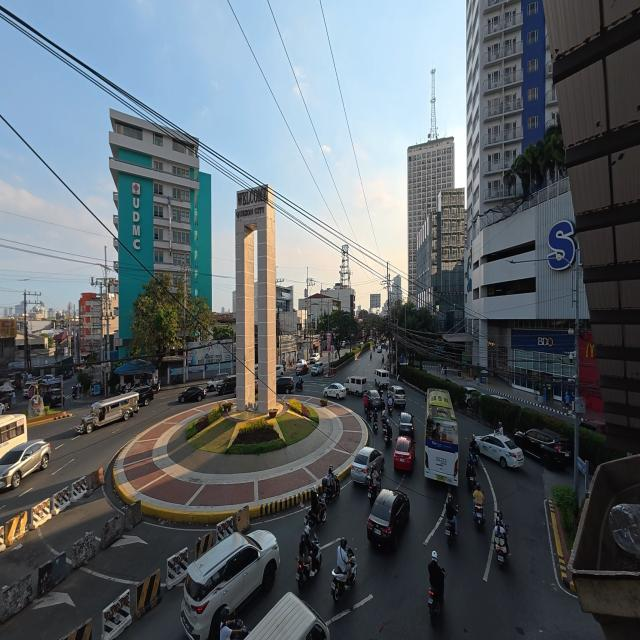Jeepneys: (77, 392, 138, 433)
bus: (425, 389, 458, 485), (0, 414, 27, 456)
car: (181, 530, 279, 639), (368, 489, 409, 548), (0, 440, 50, 488), (514, 429, 572, 468), (475, 433, 523, 468), (351, 447, 384, 483), (394, 436, 415, 471), (132, 385, 154, 405), (399, 412, 414, 440), (178, 387, 206, 402), (207, 373, 229, 392), (365, 389, 384, 409), (44, 389, 63, 408), (218, 375, 236, 395), (390, 385, 406, 407), (324, 383, 346, 399), (580, 420, 605, 434), (276, 376, 294, 394), (465, 387, 482, 402), (23, 382, 37, 398), (490, 394, 512, 403), (311, 362, 324, 376), (296, 363, 308, 375), (310, 353, 320, 364), (62, 370, 73, 379), (276, 365, 284, 377), (42, 375, 54, 382), (297, 359, 307, 366), (377, 344, 382, 354), (341, 341, 345, 348), (359, 341, 364, 346)
motorcycle: (332, 548, 356, 602), (305, 497, 327, 527), (428, 586, 443, 625), (322, 476, 340, 504), (494, 533, 507, 567), (311, 535, 321, 571), (231, 619, 249, 638), (368, 476, 379, 505), (445, 519, 456, 545), (467, 467, 476, 491), (474, 505, 484, 526), (383, 423, 392, 446), (366, 409, 373, 422), (295, 381, 303, 391), (373, 414, 377, 433), (72, 387, 77, 399), (388, 403, 393, 415), (370, 354, 372, 360)
vans: (247, 592, 329, 639), (345, 376, 366, 396), (375, 370, 389, 387)
